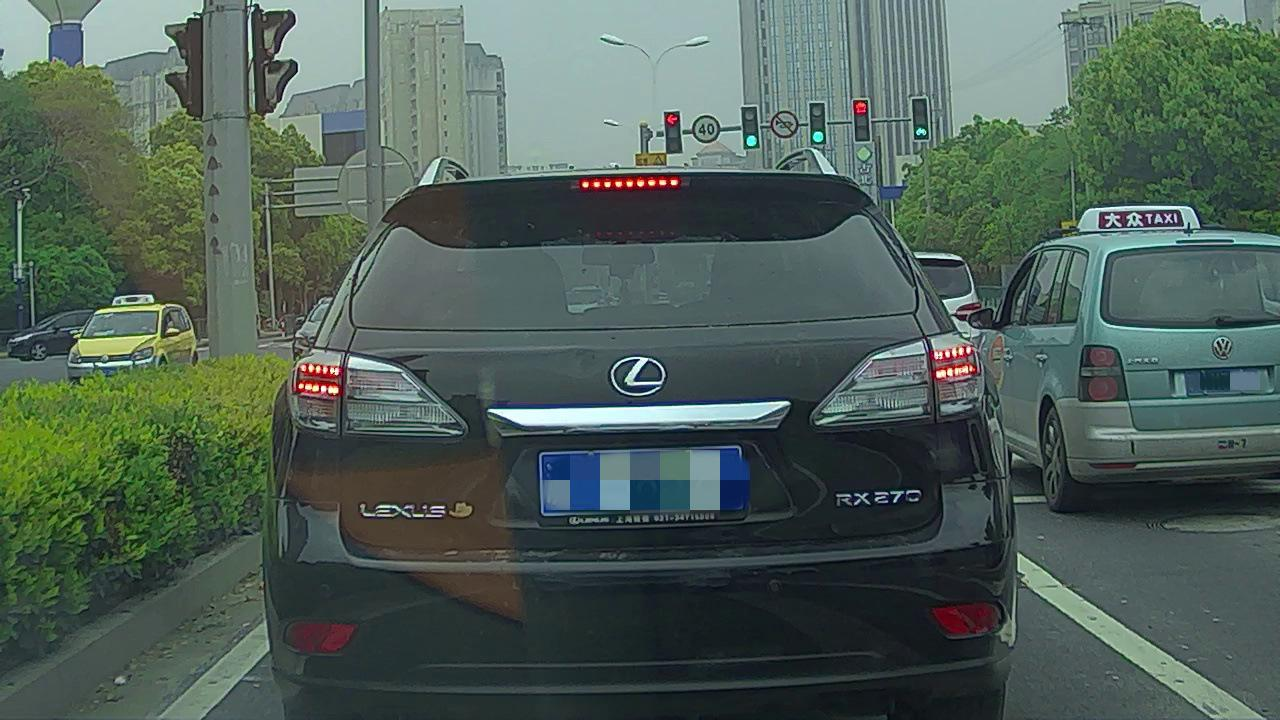traffic_light: (911, 97, 930, 141), (852, 99, 869, 142), (665, 111, 681, 153), (811, 102, 826, 144), (742, 108, 757, 149)
